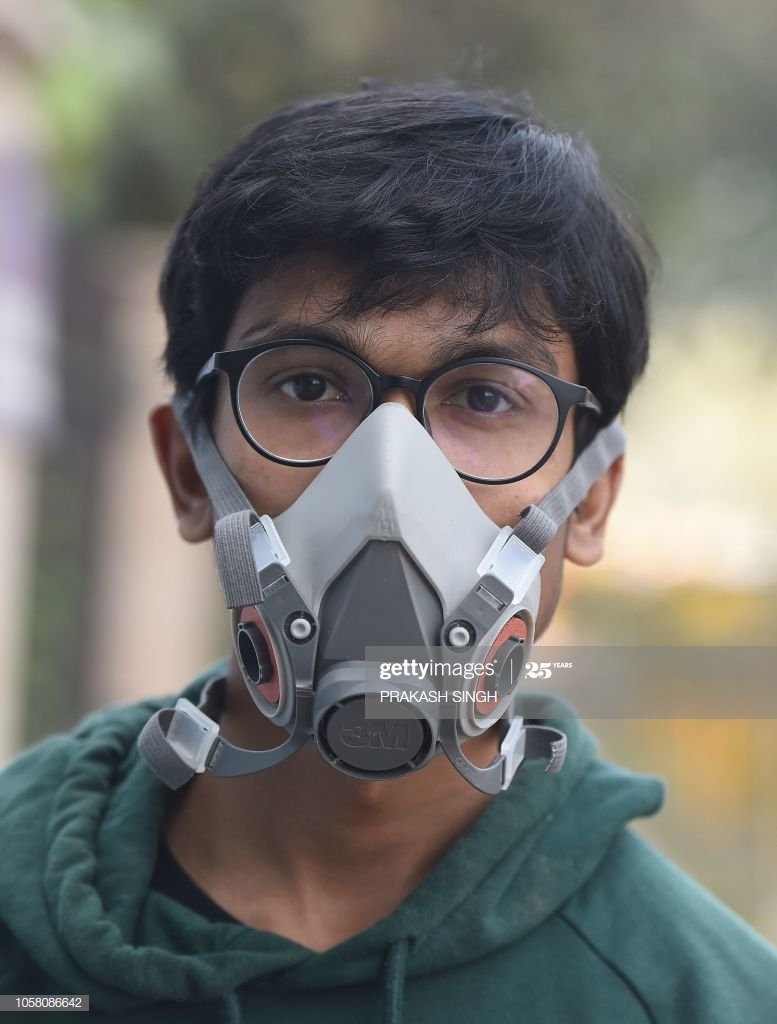mask: (143, 76, 693, 809)
